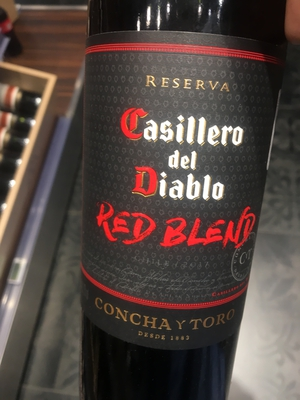casillero del diablo red blend: (63, 14, 281, 400)
